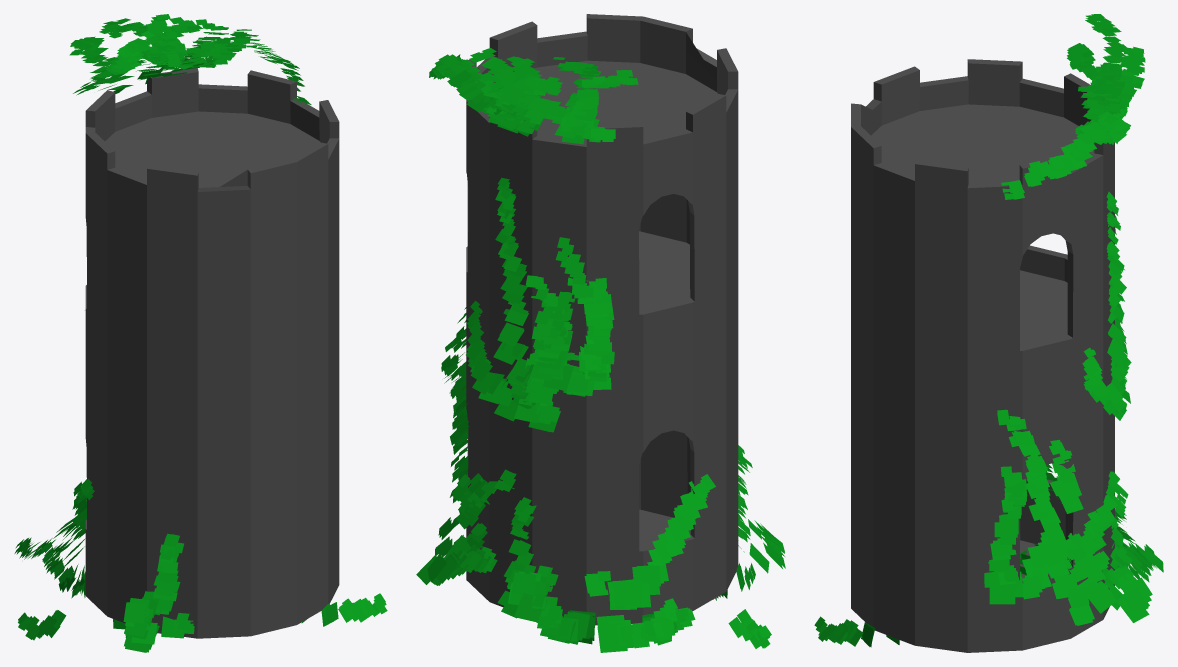
Rendered from tower.fbx.
3 views of the same model, side by side, from view 1: azimuth 30°, elevation 25°; view 2: azimuth 150°, elevation 25°; view 3: azimuth 270°, elevation 25° (orthographic). The views are drawn at different scales.
Parts seen in each view (by area): view 1: Cylinder, Circle, IvyLeaf.002, IvyLeaf.001; view 2: Cylinder, IvyLeaf.002, IvyLeaf, IvyLeaf.001, Circle, Circle.001; view 3: Cylinder, IvyLeaf.002, Circle, IvyLeaf.001, IvyLeaf, Circle.001.
Boxes of the visible parts, left/top/right/bottom form: Cylinder: left=85, top=68, right=339, bottom=638; Circle: left=105, top=111, right=319, bottom=187; IvyLeaf.002: left=14, top=479, right=387, bottom=652; IvyLeaf.001: left=69, top=14, right=311, bottom=104; Cylinder: left=466, top=14, right=738, bottom=625; IvyLeaf.002: left=416, top=307, right=785, bottom=652; IvyLeaf: left=466, top=177, right=614, bottom=432; IvyLeaf.001: left=429, top=48, right=638, bottom=144; Circle: left=502, top=60, right=717, bottom=142; Circle.001: left=639, top=231, right=690, bottom=310; Cylinder: left=851, top=59, right=1114, bottom=652; IvyLeaf.002: left=814, top=409, right=1163, bottom=647; Circle: left=871, top=104, right=1094, bottom=183; IvyLeaf.001: left=1001, top=14, right=1145, bottom=199; IvyLeaf: left=1082, top=191, right=1131, bottom=420; Circle.001: left=1020, top=270, right=1067, bottom=346.
Size of the model in its own units: 67.65 by 116 by 64.93.
